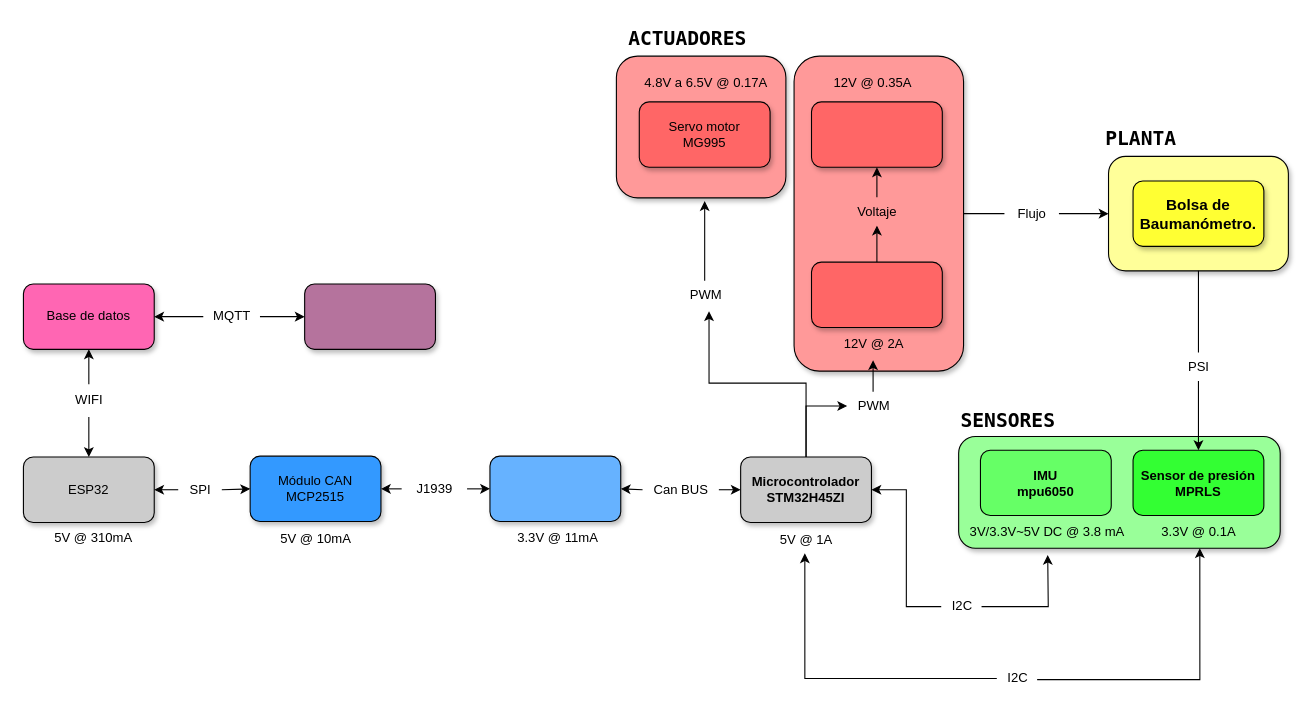
Some shapes in this 1315 by 711 pixel diagram are drawn without their labels. The centre of each missing label's shape, as x and y in pixels:
"Interfaz" belongs at [370,317].
"Motor bomba de aire CrocSee DC" belongs at [877,135].
"Puente H L298N" belongs at [877,296].
"Transceptor CAN SN65HVD230" belongs at [556,490].
